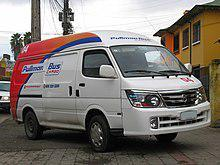Van: (10, 33, 214, 146)
